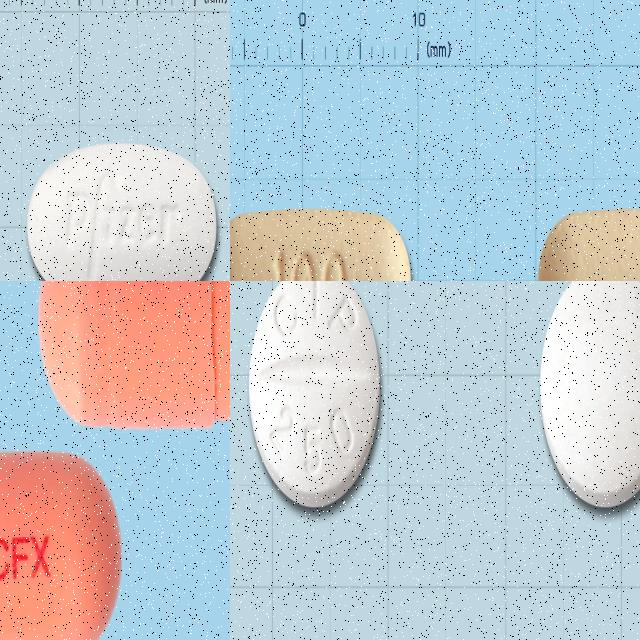NT-fixime Cap: (37, 281, 230, 433), (0, 444, 122, 640)
Noxafil Gastro-Resistant Tab: (230, 206, 412, 281), (538, 206, 640, 281)
Propocin Tab: (249, 281, 381, 507), (539, 281, 640, 508)
Viramid Cap: (26, 143, 217, 281)
